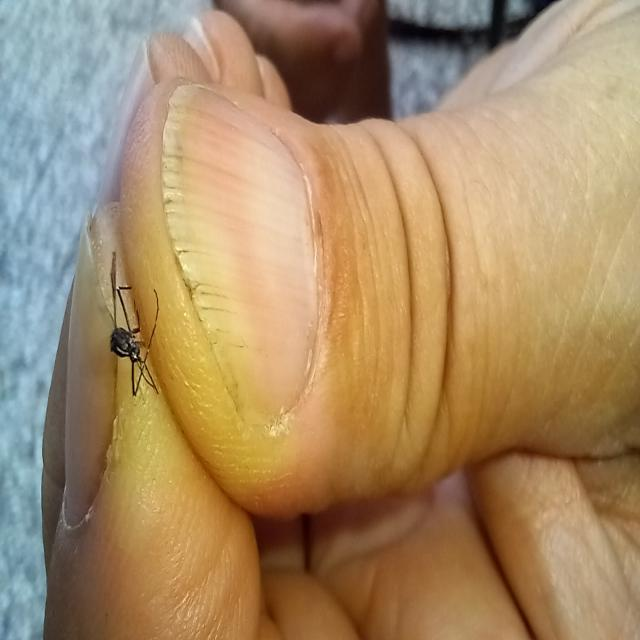albopictus: (92, 238, 162, 396)
